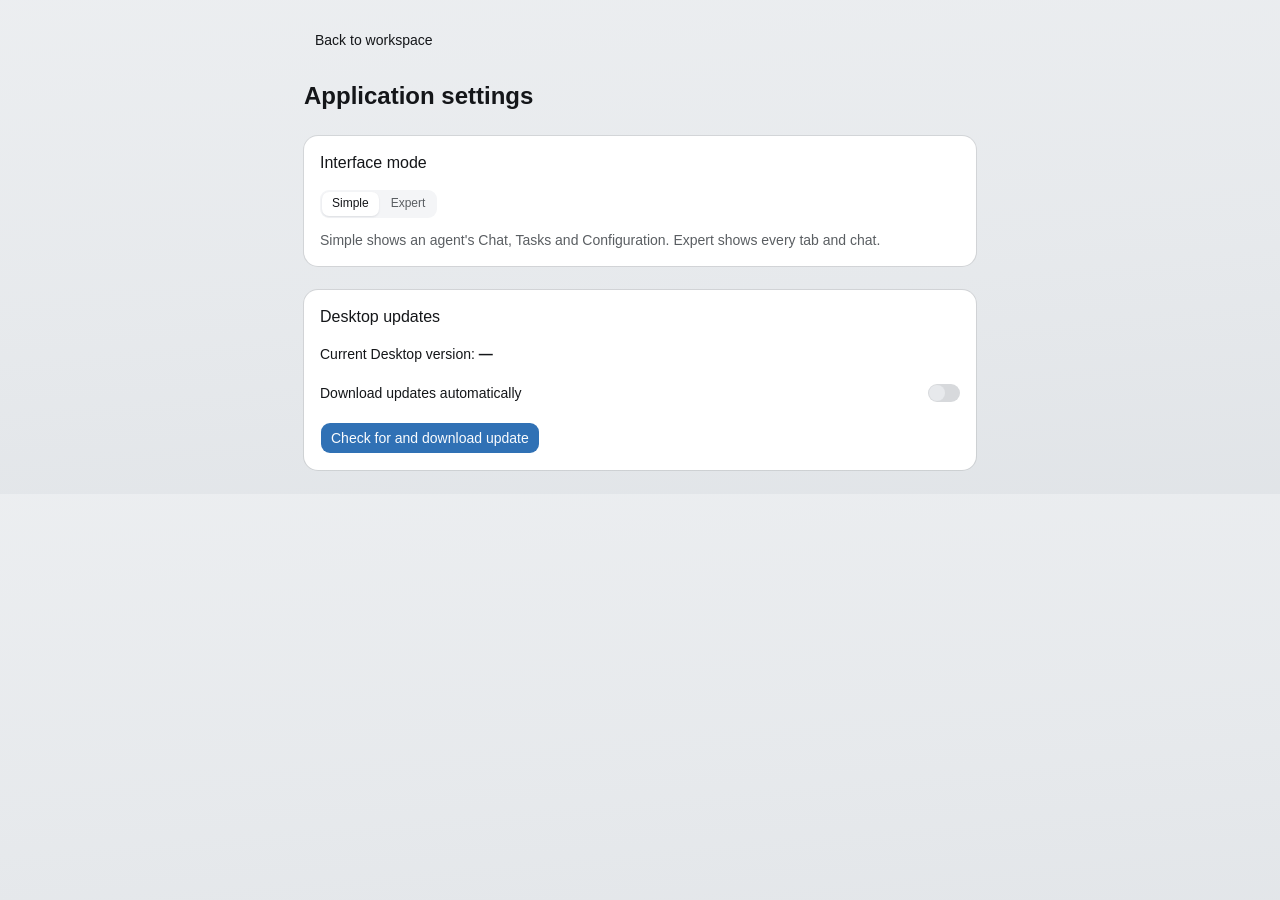
Scenario: Desktop updates › keeps the preference usable and reports a storage write failure
Step 1. Click the switch named "Download updates automatically" → (944, 393), box [928, 384, 960, 402]
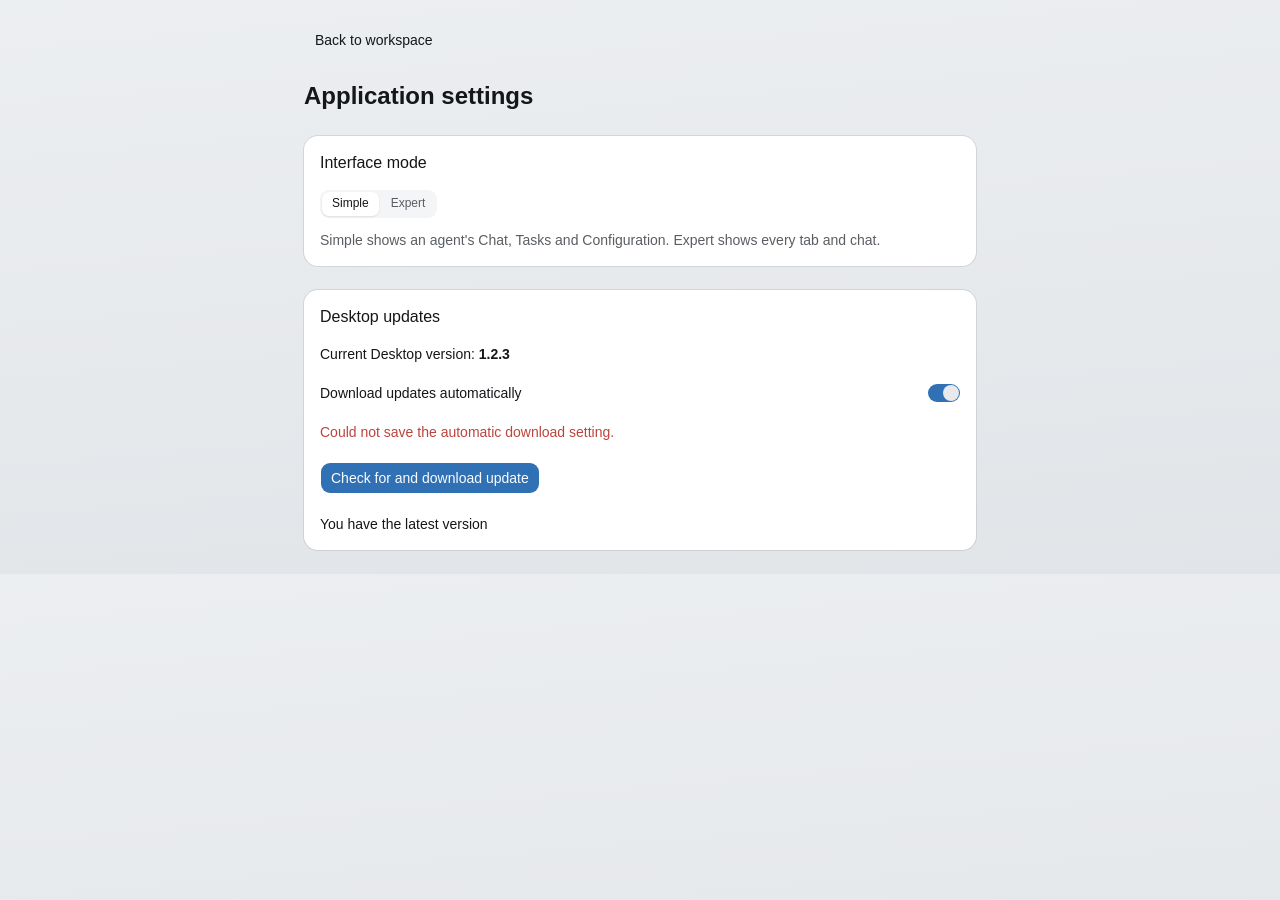
Expected: the switch named "Download updates automatically" is checked, [928, 384, 960, 402]
Expected: the message "Could not save the automatic download setting." is shown, [320, 424, 614, 440]
